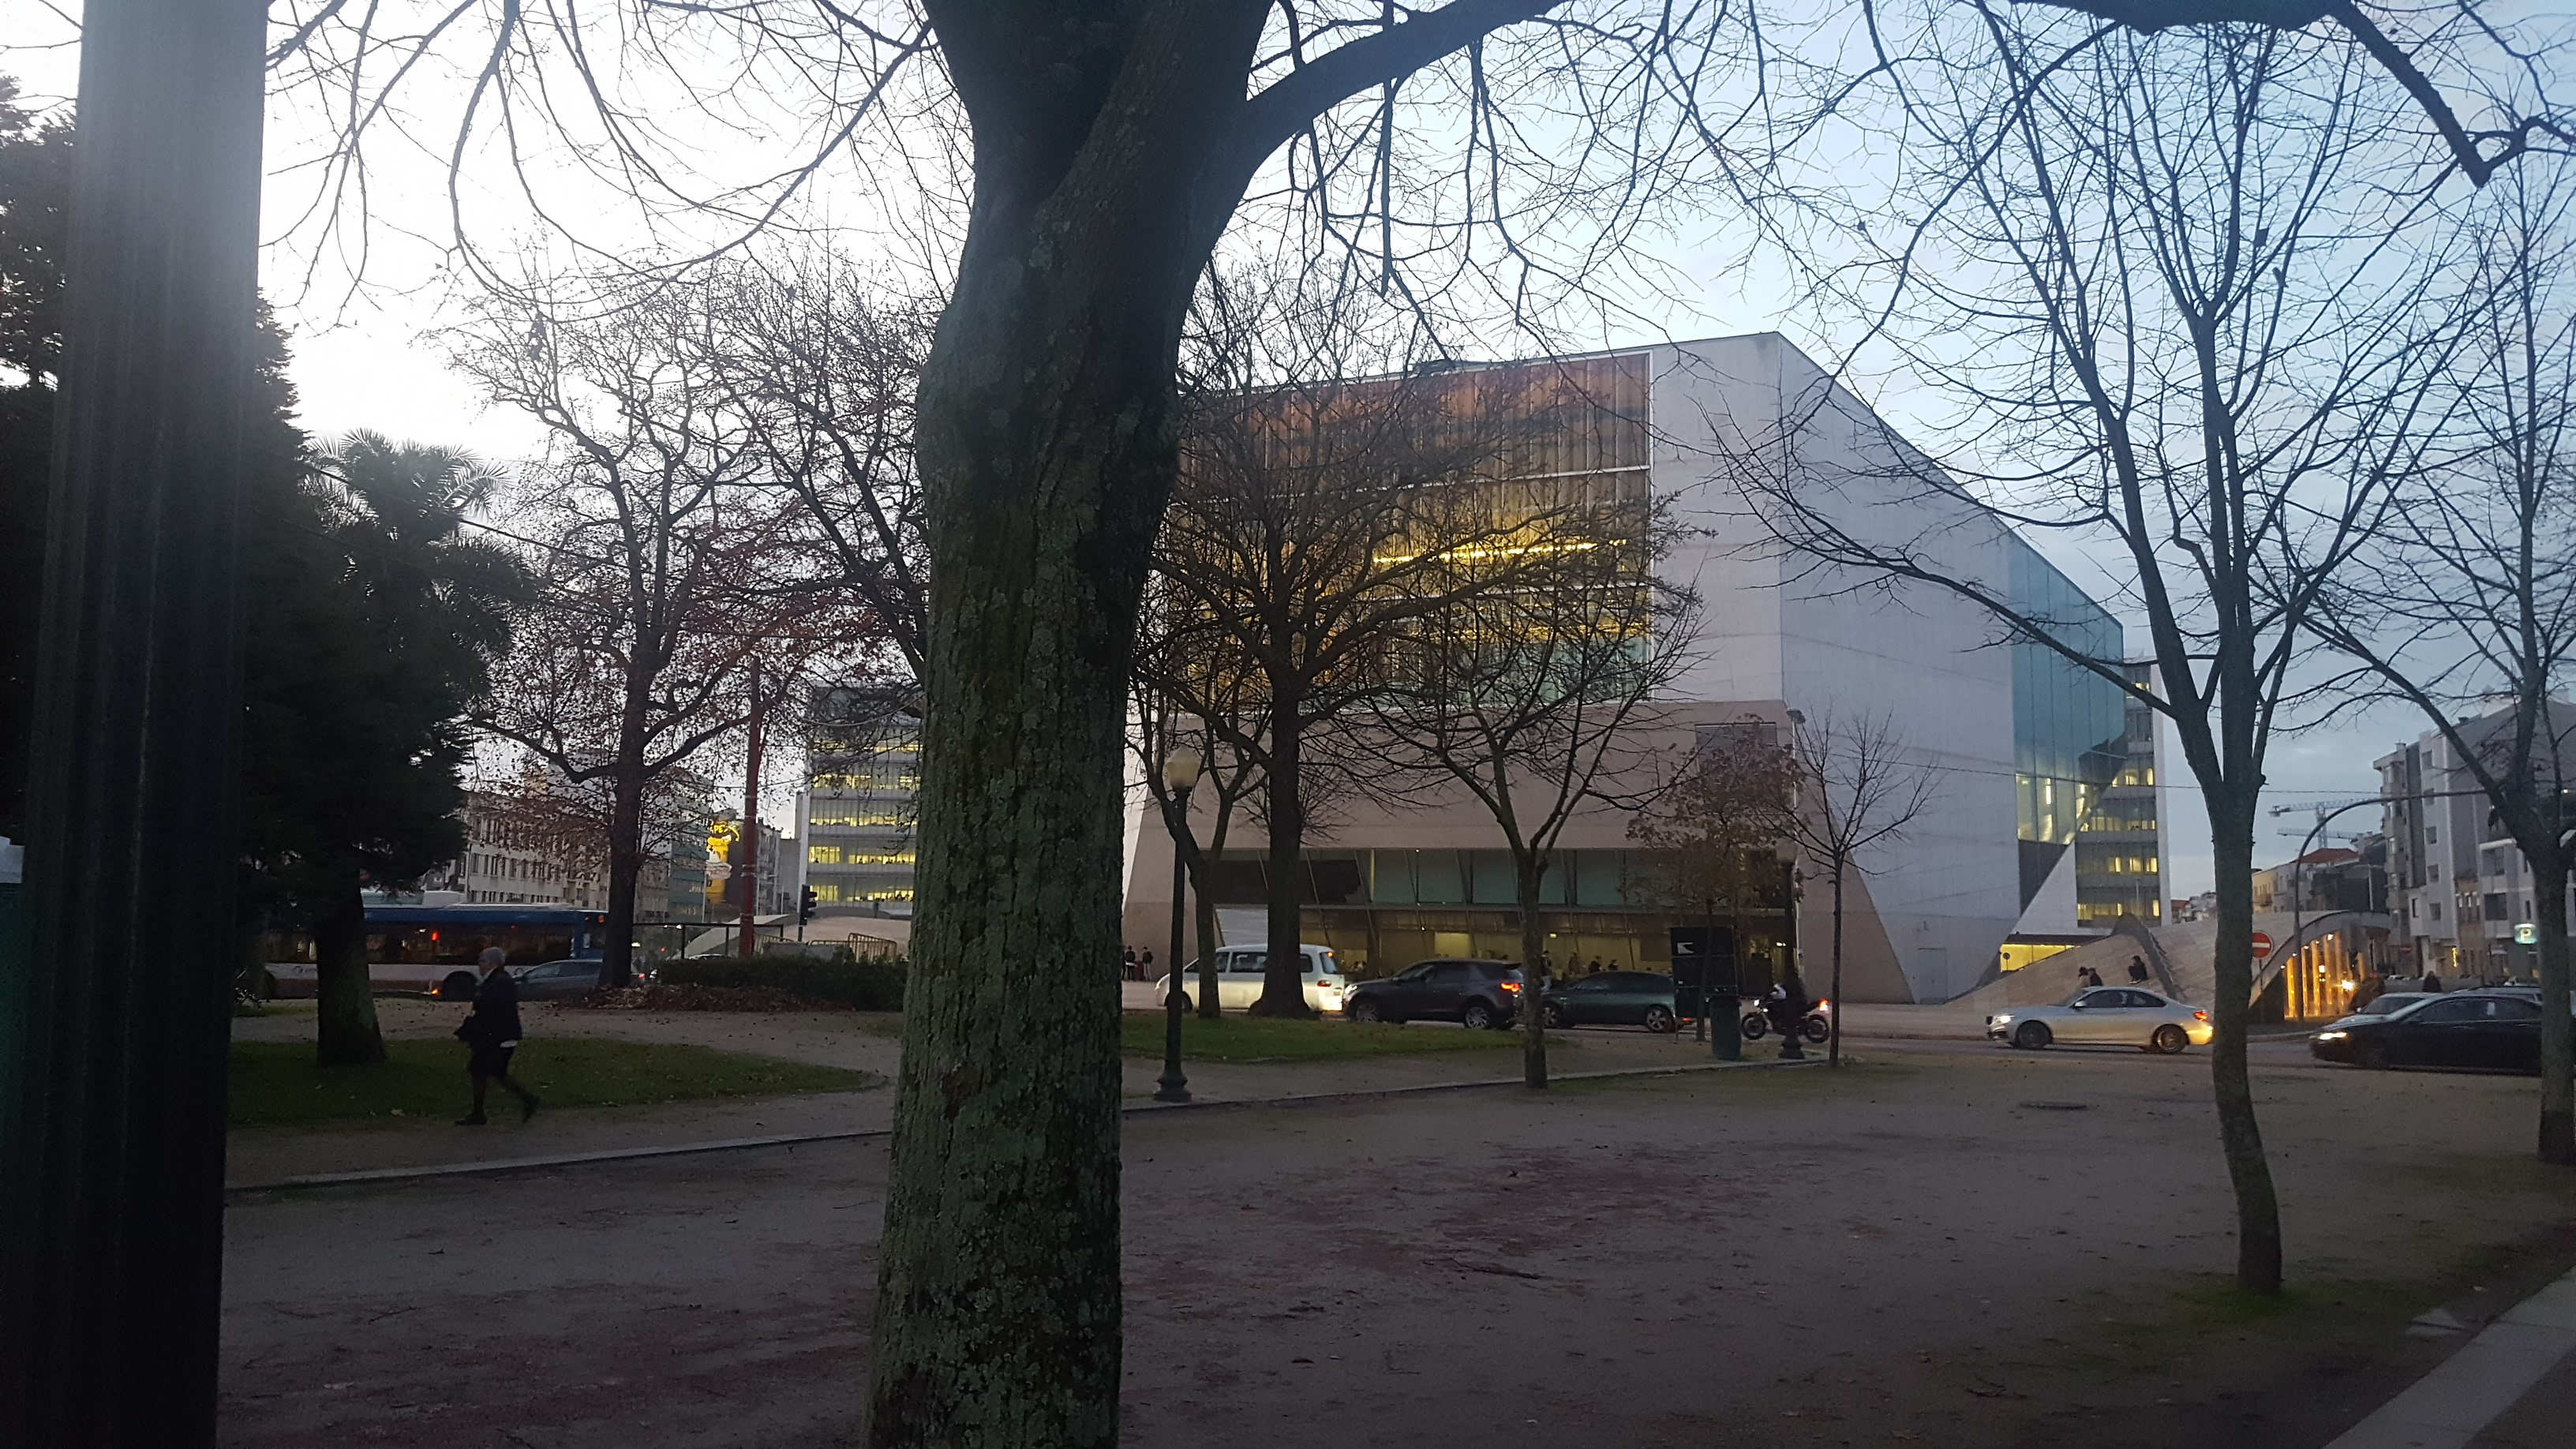musica: (1164, 347, 2162, 952)
